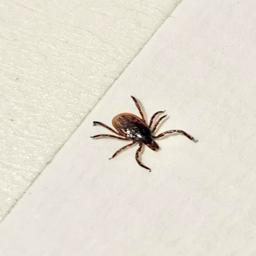Ixodes scapularis: (90, 95, 195, 173)
